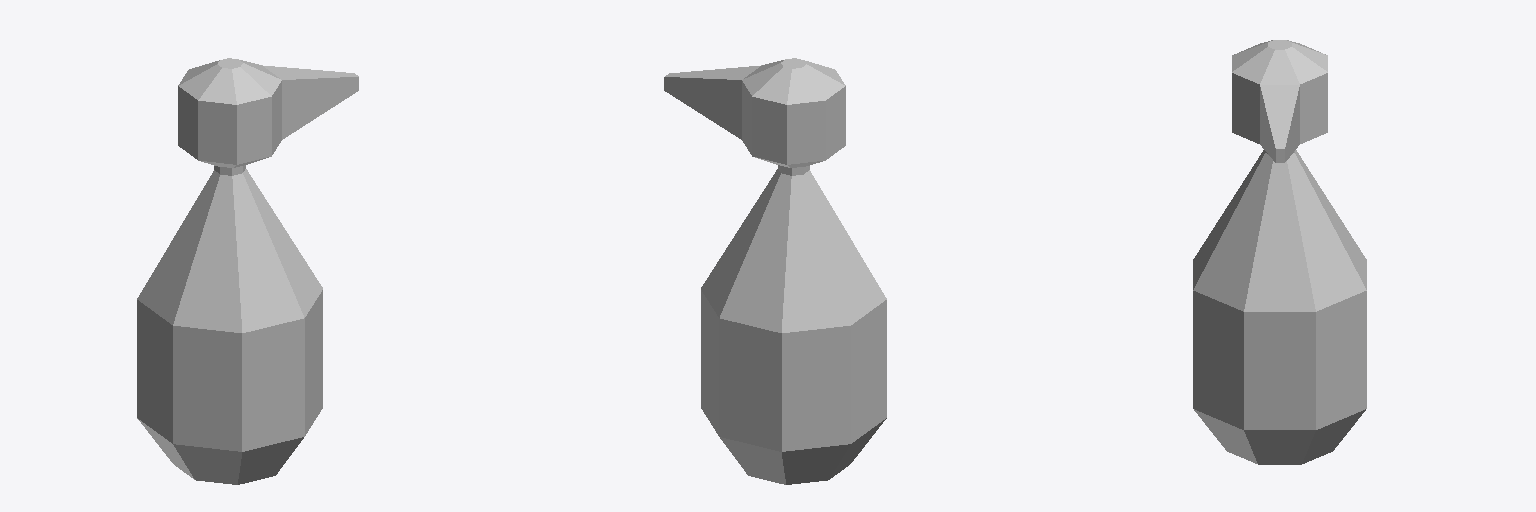
File: TorreInimiga.obj
The picture shows the model from 3 angles: view 1: azimuth 30°, elevation 25°; view 2: azimuth 150°, elevation 25°; view 3: azimuth 270°, elevation 25°; orthographic projection.
Visible parts, largest first — view 1: Circle_Circle.001; view 2: Circle_Circle.001; view 3: Circle_Circle.001.
Part boxes in pixels (x1,y1,x2,y2): Circle_Circle.001: (137,58,358,484); Circle_Circle.001: (664,58,886,484); Circle_Circle.001: (1193,40,1366,464).
Bounding box in the file's own units: 2.48 × 4.66 × 1.85.